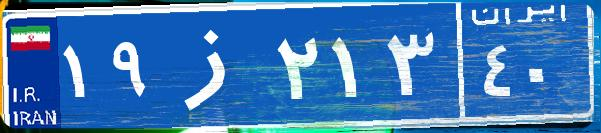0: (525, 38, 570, 115)
1: (330, 28, 385, 110), (57, 26, 110, 107)
2: (273, 28, 330, 110)
3: (385, 28, 445, 110)
4: (475, 38, 525, 113)
9: (110, 28, 158, 105)
ز: (158, 15, 273, 115)
